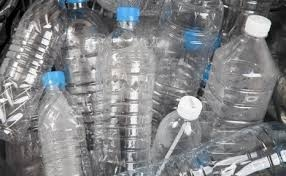plastic: (84, 5, 166, 175), (202, 9, 280, 174), (28, 68, 99, 174), (149, 87, 210, 176)
